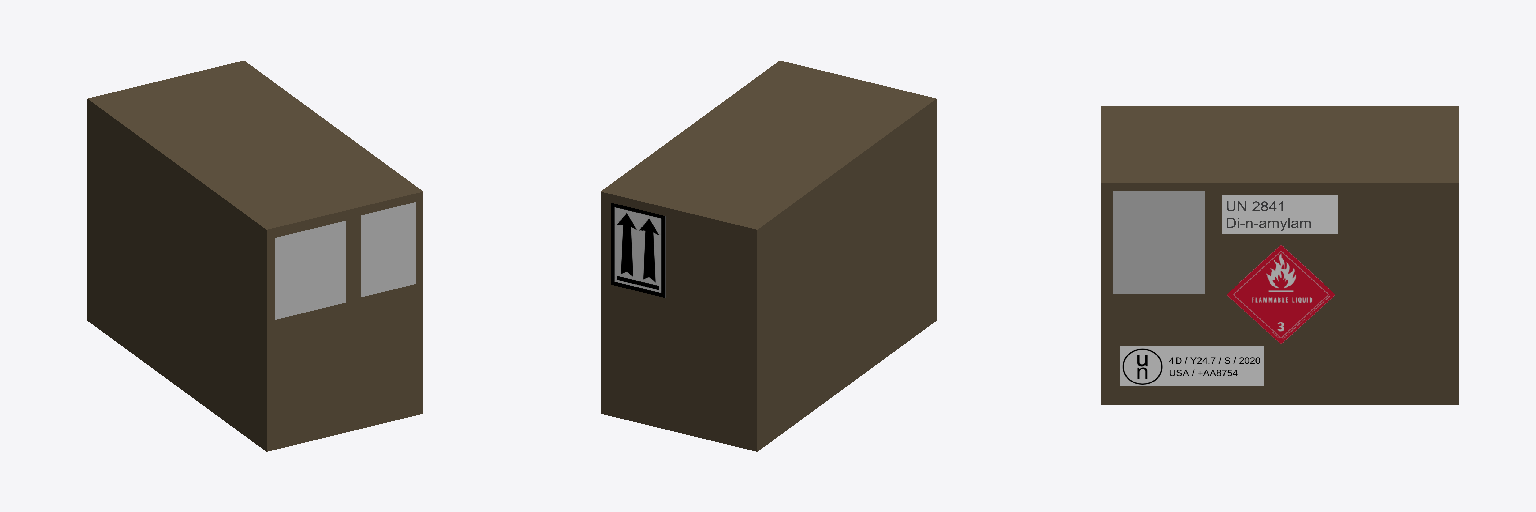
3 renders of one model, left to right at view 1: azimuth 30°, elevation 25°; view 2: azimuth 150°, elevation 25°; view 3: azimuth 270°, elevation 25°, orthographic.
Parts seen in each view (by area): view 1: Cube, Screenshot_2025-04-01_151141, Screenshot_2025-04-02_141838; view 2: Cube, image30; view 3: Cube, Screenshot_2025-04-02_141724, image29, image32, text1.
Part boxes in pixels (x1,y1,x2,y2): Cube: (87, 61, 422, 451); Screenshot_2025-04-01_151141: (275, 221, 345, 319); Screenshot_2025-04-02_141838: (361, 202, 415, 296); Cube: (601, 61, 936, 451); image30: (611, 203, 665, 297); Cube: (1101, 106, 1458, 404); Screenshot_2025-04-02_141724: (1113, 191, 1204, 293); image29: (1120, 346, 1263, 385); image32: (1227, 245, 1334, 343); text1: (1222, 195, 1337, 233).
Bounding box in the file's own units: 2.02 × 2.71 × 3.98.
Materials: 8 (4 with a texture image).